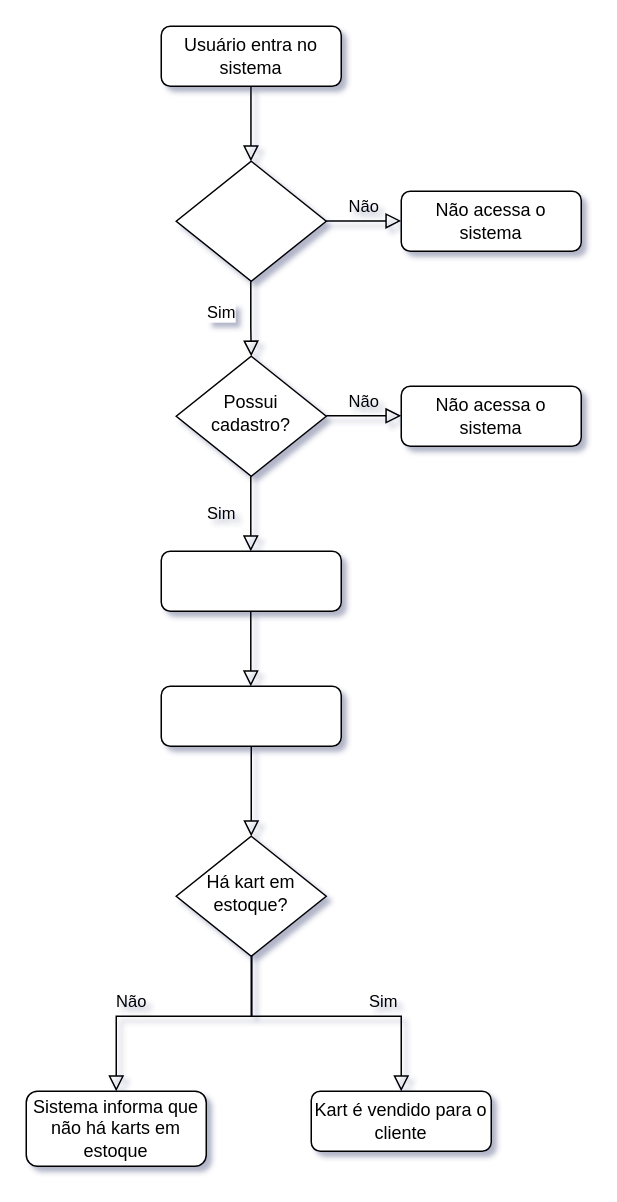
This 617x1202 diagram has some shape labels left out. The centre of each missing label's shape, as x and y in pixels:
"Funcionário realiza login" belongs at (250,580).
"Funcionário realiza venda" belongs at (250,715).
"É funcionário?" belongs at (250,220).
